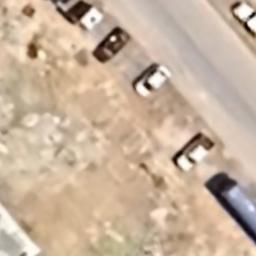others: (215, 176, 256, 242)
pickup: (172, 133, 216, 171)
sedan: (92, 26, 130, 66), (136, 62, 172, 96)
